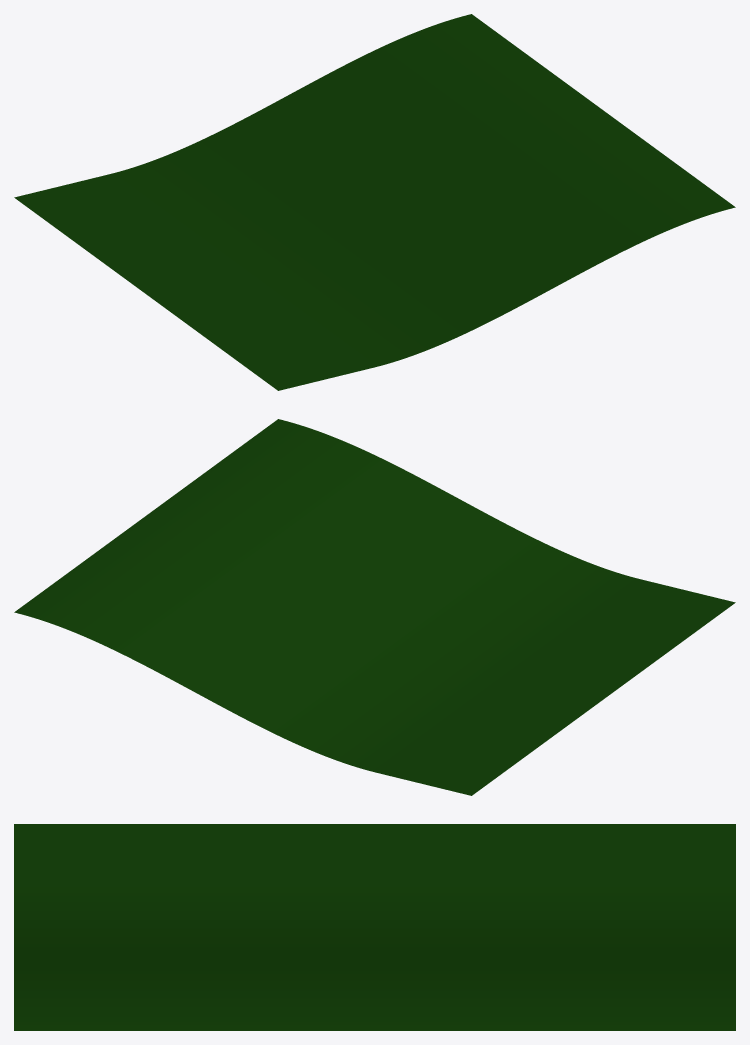
File: Terrain_Part_Ramp_1.fbx
3 renders of one model, top to bottom at view 1: azimuth 30°, elevation 25°; view 2: azimuth 150°, elevation 25°; view 3: azimuth 270°, elevation 25°, orthographic. The views are drawn at different scales.
Parts seen in each view (by area): view 1: Terrain_Part_Ramp_1; view 2: Terrain_Part_Ramp_1; view 3: Terrain_Part_Ramp_1.
Boxes of the visible parts, left/top/right/bottom form: Terrain_Part_Ramp_1: left=14, top=14, right=735, bottom=390; Terrain_Part_Ramp_1: left=14, top=419, right=735, bottom=795; Terrain_Part_Ramp_1: left=14, top=824, right=735, bottom=1030.
Size of the model in its own units: 2000 by 300 by 2000.
